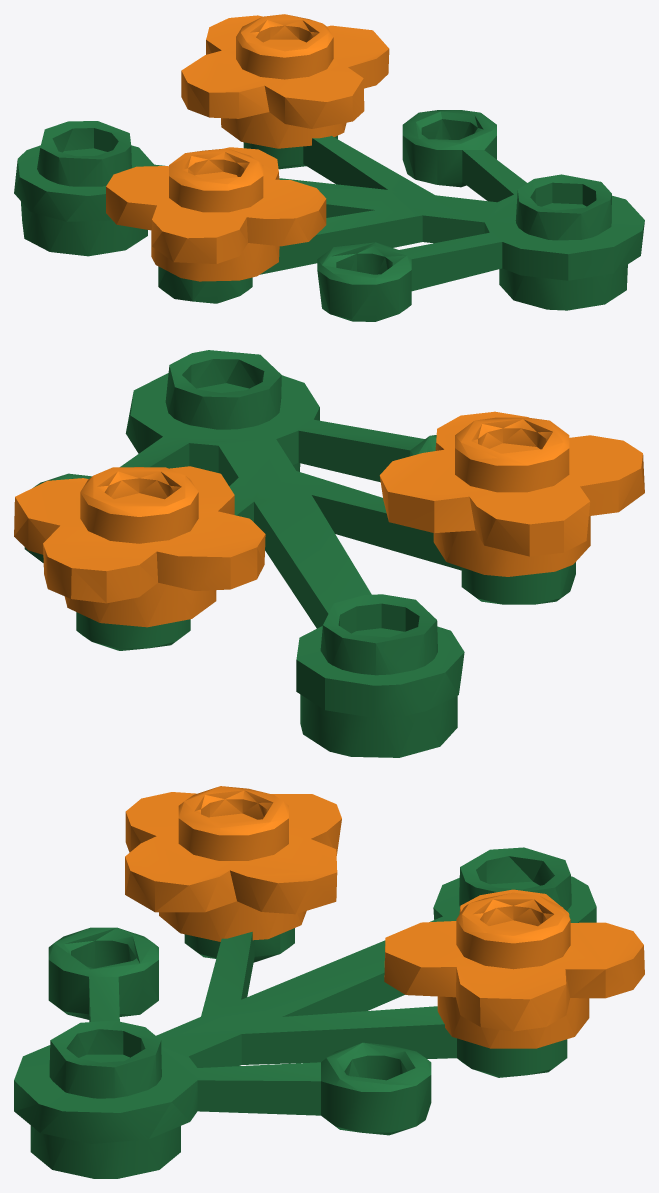
File: frog_stem_a_orange.glb
3 renders of one model, top to bottom at view 1: azimuth 30°, elevation 25°; view 2: azimuth 150°, elevation 25°; view 3: azimuth 270°, elevation 25°, orthographic. The views are drawn at different scales.
Parts seen in each view (by area): view 1: frog_stem_a_orange; view 2: frog_stem_a_orange; view 3: frog_stem_a_orange.
Part boxes in pixels (x1=…): frog_stem_a_orange: x1=14, y1=14, x2=644, y2=321; frog_stem_a_orange: x1=14, y1=350, x2=644, y2=757; frog_stem_a_orange: x1=14, y1=786, x2=644, y2=1178.
Size of the model in its own units: 0.8873 by 0.2846 by 0.9399.
